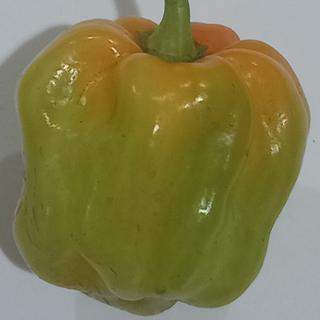Grade-B: (10, 11, 315, 317)
